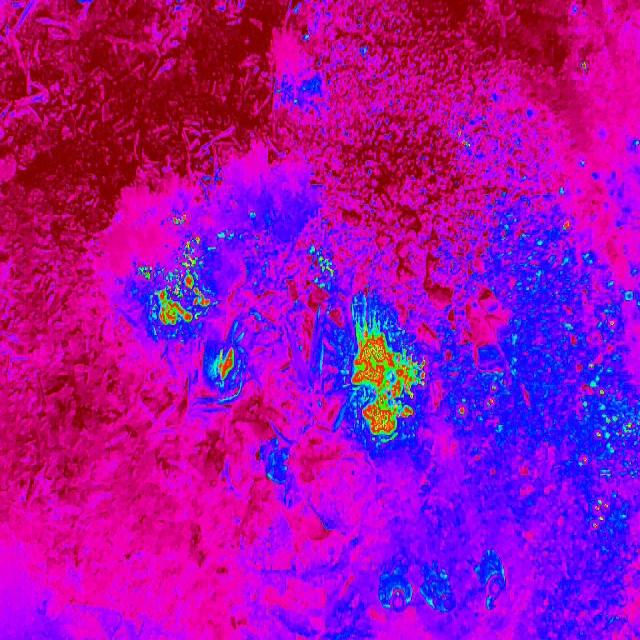fire: (565, 296, 640, 540), (348, 320, 417, 435), (139, 237, 211, 328), (454, 380, 504, 420), (217, 346, 240, 386), (311, 248, 336, 284), (454, 130, 474, 152), (558, 216, 576, 238), (172, 212, 190, 229)
